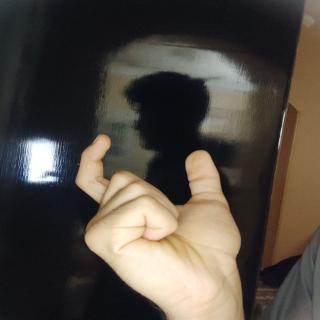NOON: (67, 126, 256, 320)
